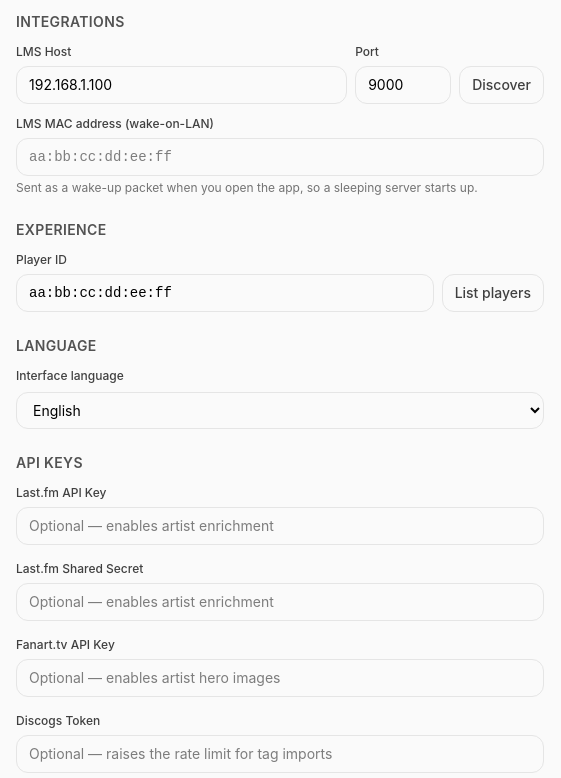
Test case: SettingsView › shows player dropdown after list-players
Click the button with test id "list-players-button".
click(493, 293)  # box [442,274,544,312]
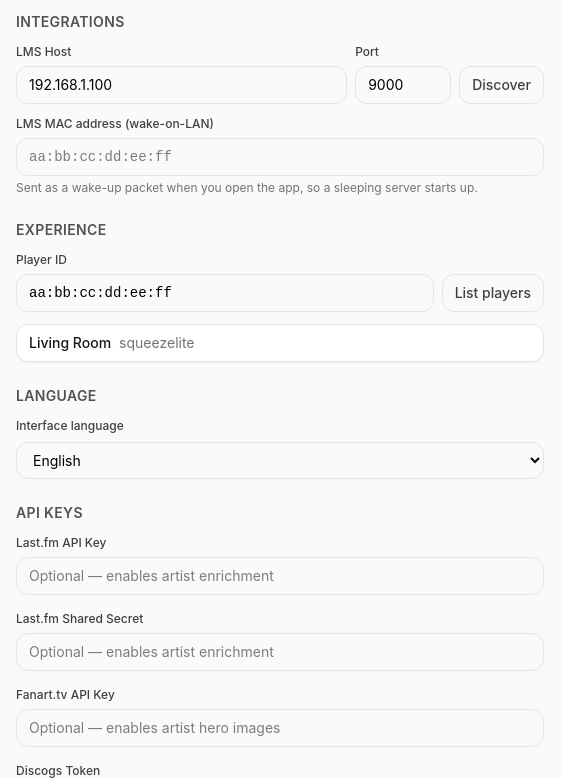
expect the element with test id "player-dropdown" is shown: met, box [16,324,544,362]
expect the button with test id "player-option" shows "Living Room": met, box [17,325,543,361]
